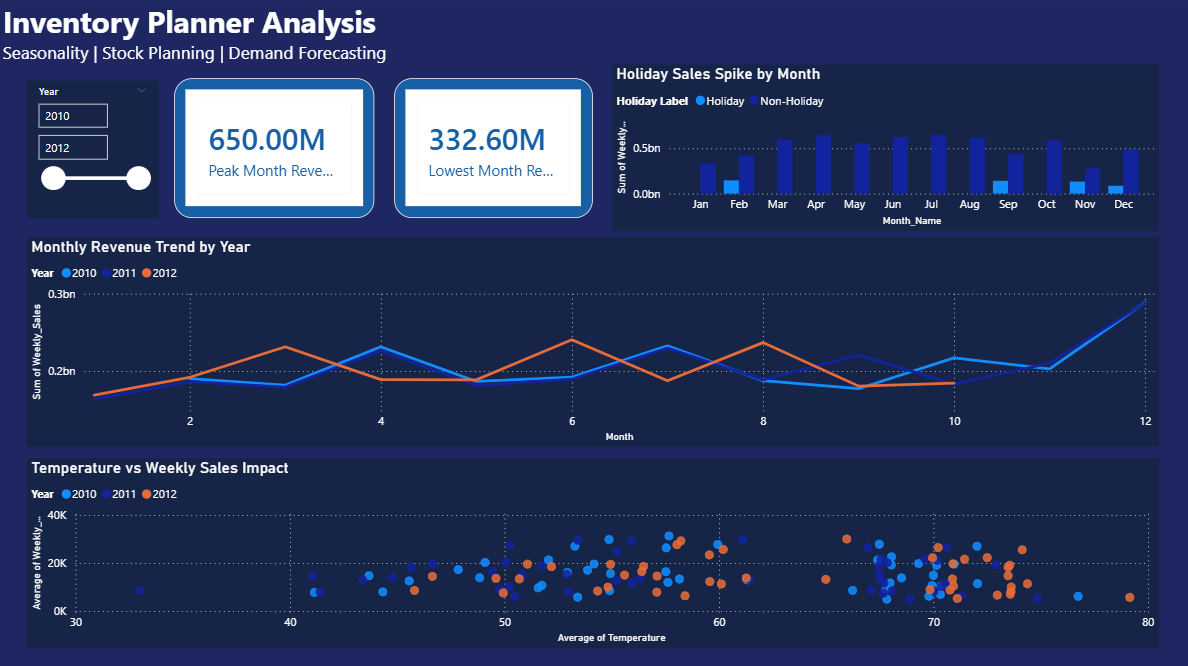

Layout of this report page (visuals, bound fields, positions):
{"tool":"powerbi","page":{"name":"Inventory Planner Analysis","canvas":[1280,720],"ordinal":2},"visuals":[{"type":"textbox","box":[0,0,1280.3,101.5],"z":0},{"type":"slicer","fields":{"Values":["master_cleaned.Year"]},"box":[30.9,90.1,141.2,147.9],"z":1000},{"type":"cardVisual","fields":{"Data":["master_cleaned.Peak Month Revenue"]},"box":[189.6,87.4,215.2,150.6],"z":2000},{"type":"cardVisual","fields":{"Data":["master_cleaned.Lowest Month Revenue"]},"box":[426.3,87.4,213.8,150.6],"z":3000},{"type":"lineChart","title":"Monthly Revenue Trend by Year","fields":{"Category":["master_cleaned.Month"],"Y":["Sum(master_cleaned.Weekly_Sales)"],"Series":["master_cleaned.Year"]},"box":[30.9,258.2,1218.4,225.9],"z":4000},{"type":"scatterChart","title":"Temperature vs Weekly Sales Impact","fields":{"X":["Avg(master_cleaned.Temperature)"],"Y":["Avg(master_cleaned.Weekly_Sales)"],"Category":["master_cleaned.Store"],"Series":["master_cleaned.Year"]},"box":[30.9,496.2,1218.4,204.4],"z":5000},{"type":"clusteredColumnChart","title":"Holiday Sales Spike by Month","fields":{"Category":["master_cleaned.Month_Name"],"Y":["Sum(master_cleaned.Weekly_Sales)"],"Series":["master_cleaned.Holiday Label"]},"box":[660.3,72.6,589,178.9],"z":6000}]}

Visuals, with their boxes in screenshot pixels (x1, y1, x2, y2), scaled from the page's 1280x720 canvas onto the 1188x666 screenshot:
textbox: 0:0:1187:94
slicer - master_cleaned.Year: 29:83:160:220
cardVisual - master_cleaned.Peak Month Revenue: 176:81:376:220
cardVisual - master_cleaned.Lowest Month Revenue: 396:81:594:220
"Monthly Revenue Trend by Year" lineChart: 29:239:1160:448
"Temperature vs Weekly Sales Impact" scatterChart: 29:459:1160:648
"Holiday Sales Spike by Month" clusteredColumnChart: 613:67:1160:233
